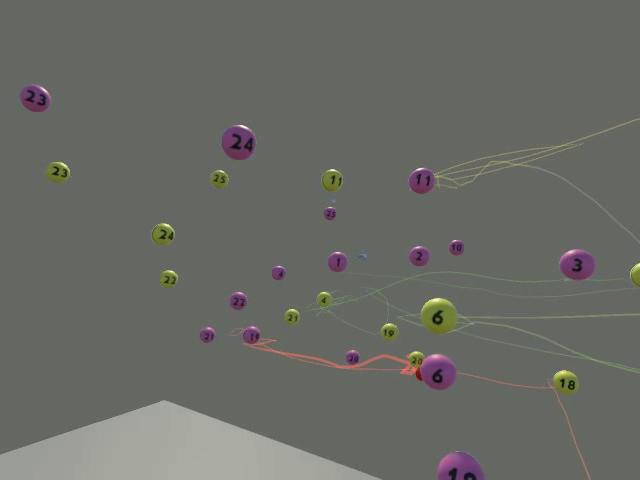ball_01_pink: (328, 252, 347, 271)
ball_02_pink: (408, 246, 429, 266)
ball_02_yellow: (316, 292, 331, 307)
ball_03_pink: (558, 249, 596, 280)
ball_04_pink: (271, 266, 285, 280)
ball_06_pink: (419, 353, 456, 389)
ball_06_yellow: (420, 297, 457, 334)
ball_10_pink: (448, 239, 464, 255)
ball_11_pink: (408, 168, 434, 193)
ball_11_yellow: (321, 168, 342, 191)
ball_18_yellow: (552, 370, 578, 393)
ball_19_pink: (242, 327, 260, 344)
ball_19_yellow: (380, 323, 398, 340)
ball_20_pink: (344, 350, 360, 364)
ball_20_yellow: (407, 350, 424, 367)
ball_21_pink: (199, 326, 214, 343)
ball_21_yellow: (284, 310, 299, 325)
ball_22_pink: (229, 292, 246, 310)
ball_22_yellow: (160, 270, 177, 287)
ball_23_pink: (19, 84, 50, 112)
ball_23_yellow: (45, 161, 70, 182)
ball_24_pink: (222, 125, 256, 160)
ball_24_yellow: (152, 223, 174, 245)
ball_25_pink: (324, 207, 336, 220)
ball_25_yellow: (209, 169, 228, 187)
ball_unknown: (437, 451, 484, 479), (629, 262, 639, 287)
user_cursor: (415, 368, 422, 380)
